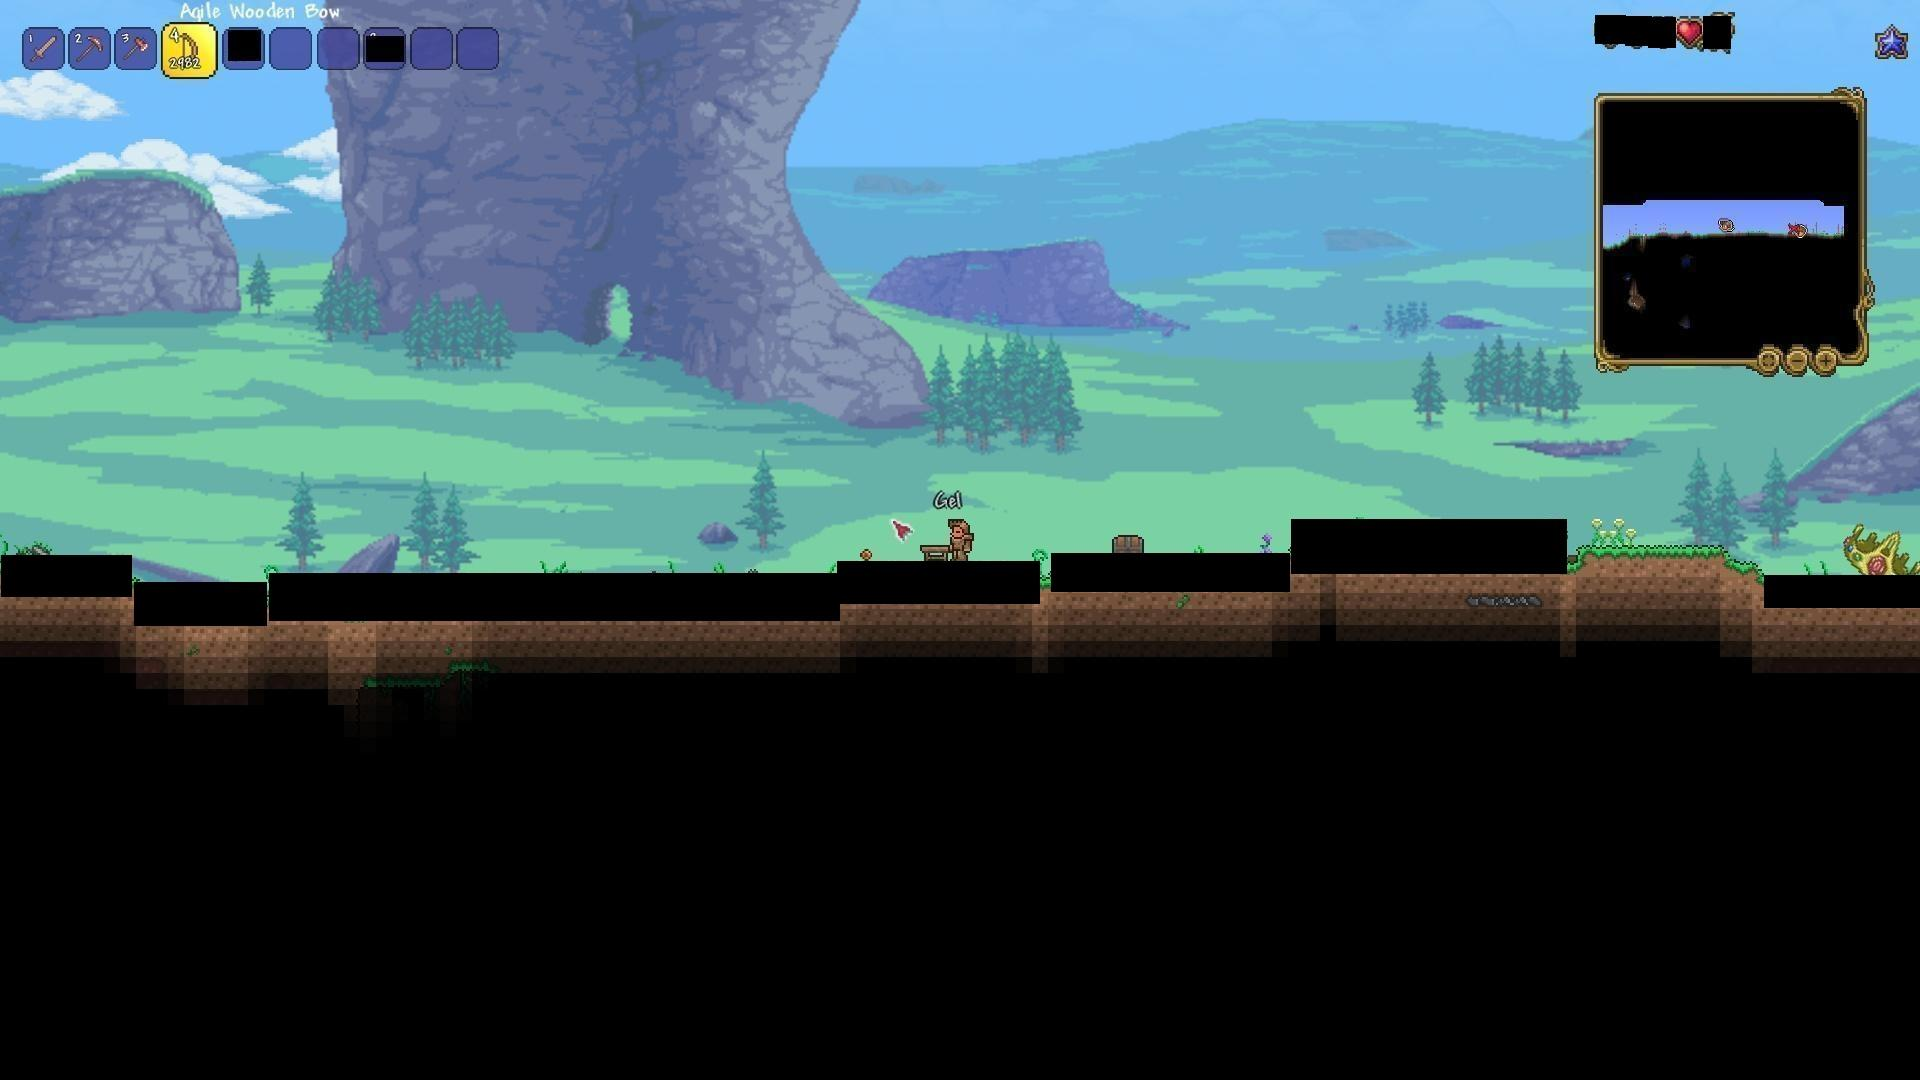dirt: (1569, 545, 1766, 591)
heart: (1675, 16, 1702, 47)
workbench: (915, 541, 952, 566)
